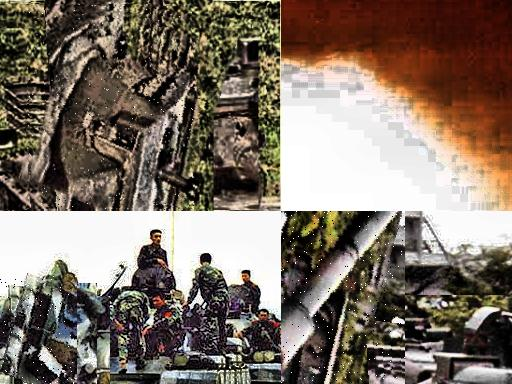tanks: (28, 6, 201, 211), (282, 212, 394, 364), (29, 261, 119, 356), (1, 277, 77, 384), (107, 345, 252, 384), (228, 312, 282, 384)
